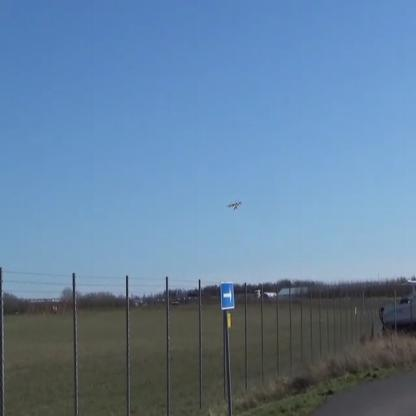plane: (224, 196, 246, 214)
